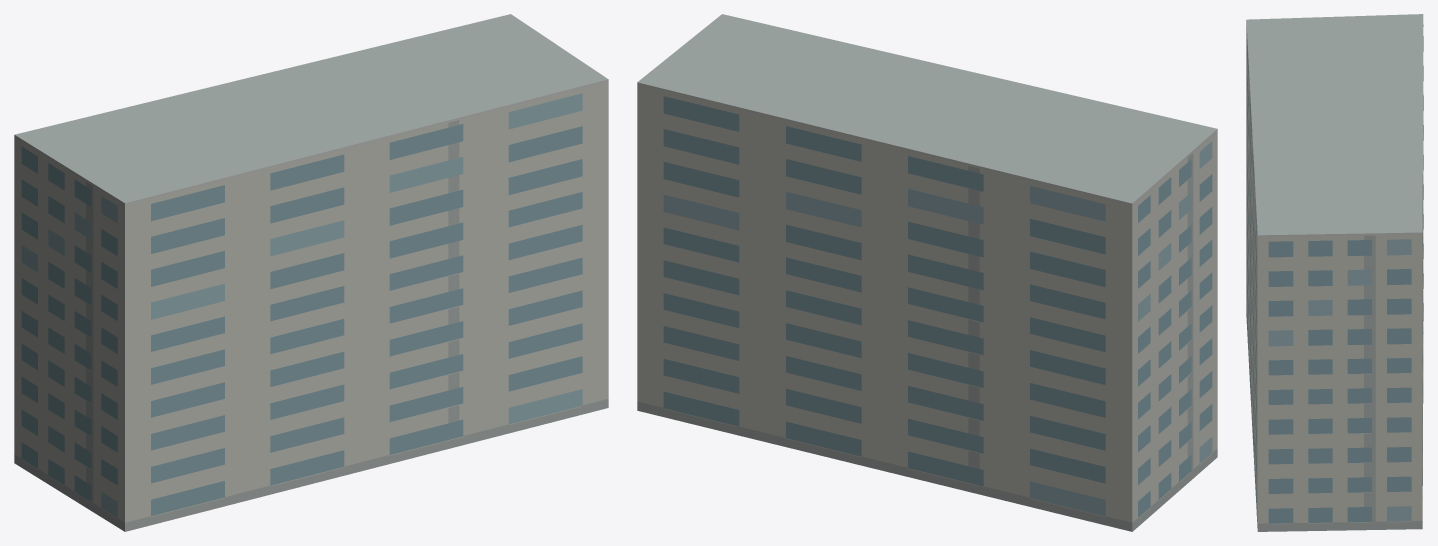
Rendered from residential-1df81000-3a29-46c9-98aa-c2dab4426b7b.glb.
3 renders of one model, left to right at view 1: azimuth 30°, elevation 25°; view 2: azimuth 150°, elevation 25°; view 3: azimuth 270°, elevation 25°, orthographic. The views are drawn at different scales.
Visible parts, largest first — view 1: residential-1df81000-3a29-46c9-98aa-c2dab4426b7b.tmp; view 2: residential-1df81000-3a29-46c9-98aa-c2dab4426b7b.tmp; view 3: residential-1df81000-3a29-46c9-98aa-c2dab4426b7b.tmp.
Boxes of the visible parts, box(x1,y1,x2,y2) form: residential-1df81000-3a29-46c9-98aa-c2dab4426b7b.tmp: box(14, 14, 608, 531); residential-1df81000-3a29-46c9-98aa-c2dab4426b7b.tmp: box(637, 14, 1217, 531); residential-1df81000-3a29-46c9-98aa-c2dab4426b7b.tmp: box(1246, 14, 1423, 531).
Bounding box in the file's own units: 52.8 × 33 × 17.86.
